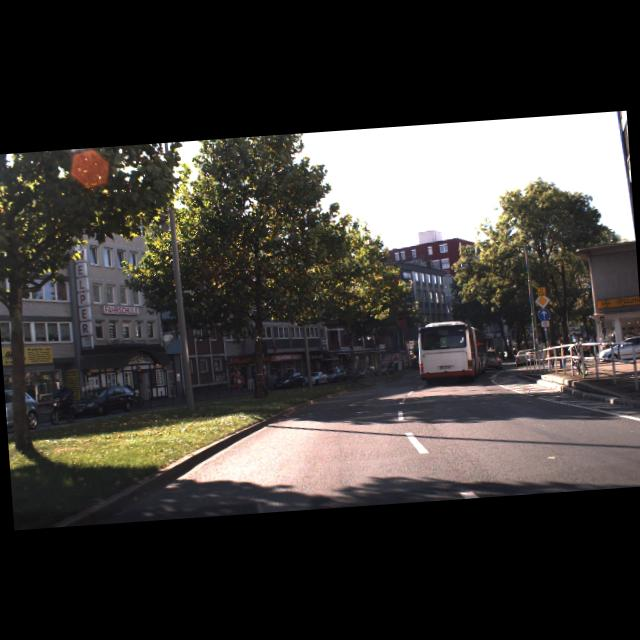mandatory: (536, 308, 550, 321)
other: (533, 292, 549, 308)
